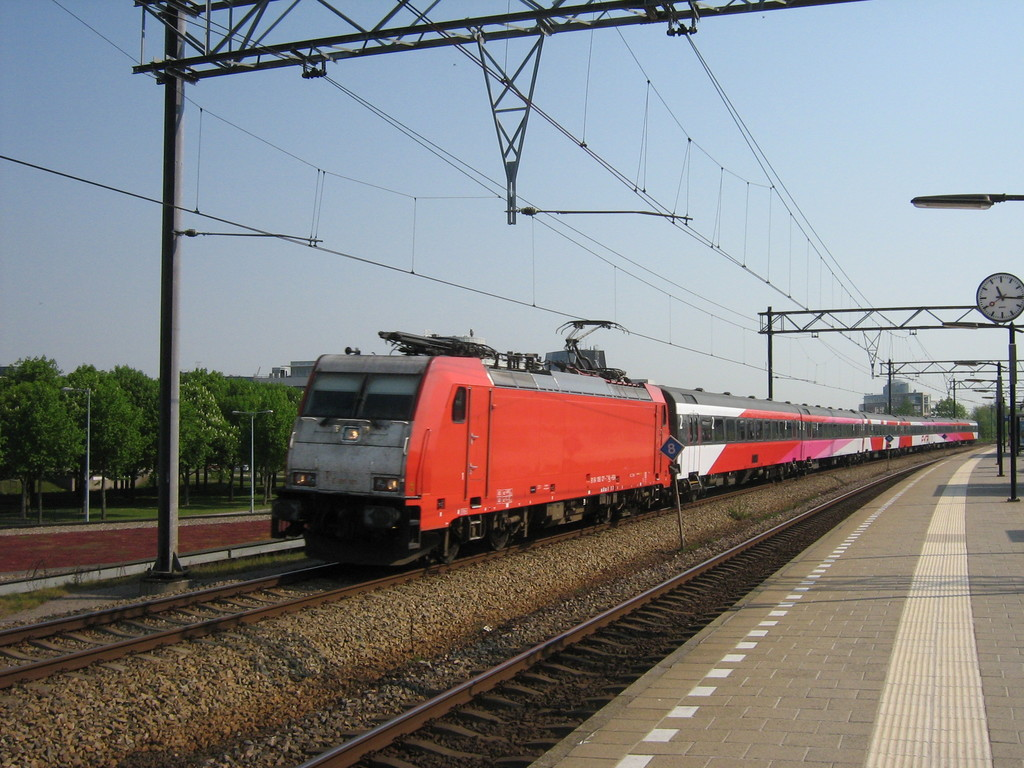train: (266, 316, 979, 566)
